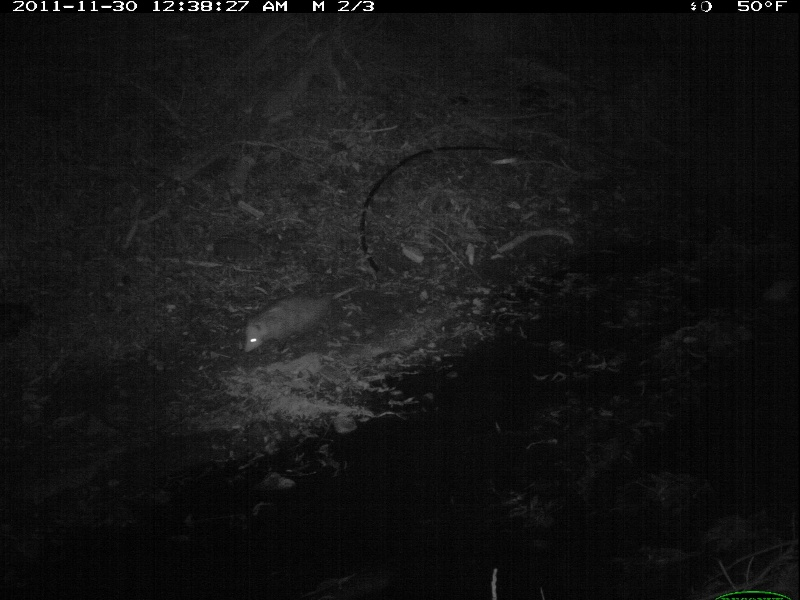opossum: (240, 272, 367, 354)
